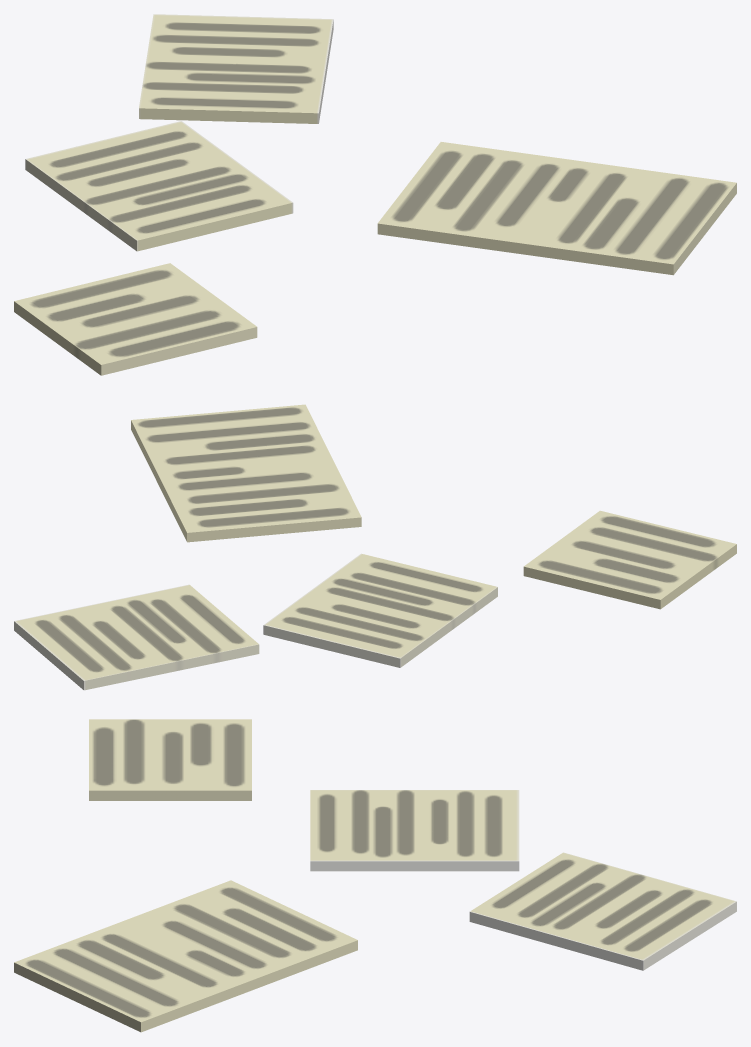
Rendered from Newspapers.fbx.
3 views of the same model, one above another, from view 1: azimuth 30°, elevation 25°; view 2: azimuth 150°, elevation 25°; view 3: azimuth 270°, elevation 25° (orthographic). The views are drawn at different scales.
Parts seen in each view (by area): view 1: Newspapers; view 2: Newspapers; view 3: Newspapers.
Boxes of the visible parts, x1,y1,x2,y2 form: Newspapers: [14, 14, 736, 375]; Newspapers: [14, 404, 736, 690]; Newspapers: [14, 719, 736, 1032].
Bounding box in the file's own units: 1.89 × 1.91 × 0.0295.
